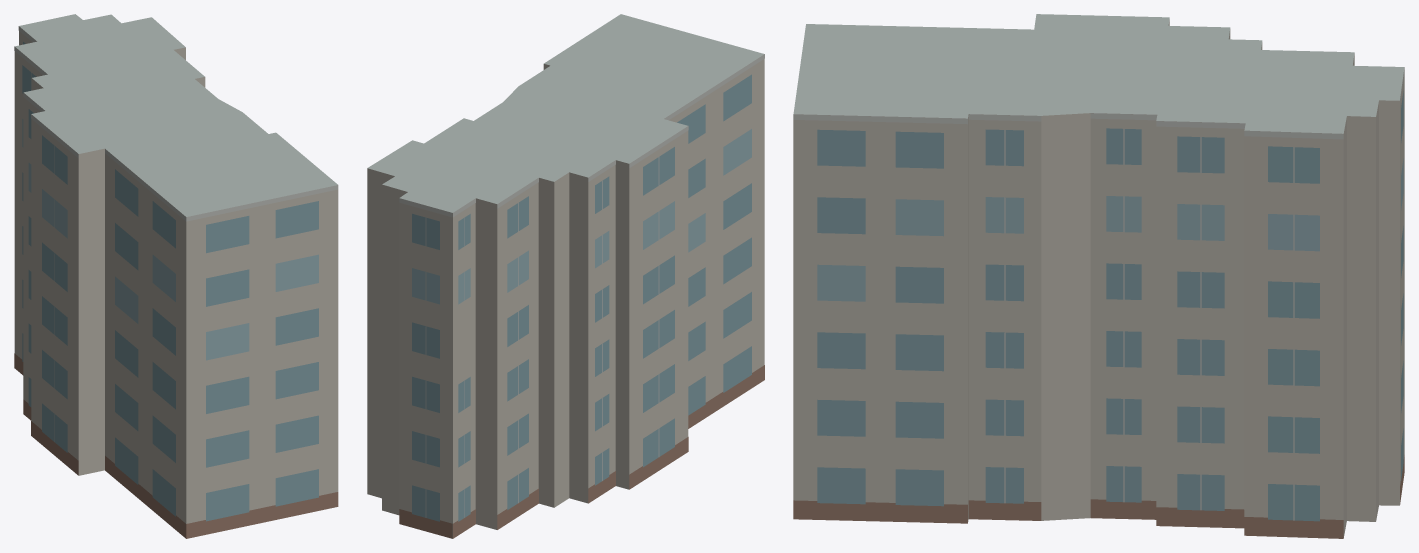
Rendered from survey-upis-32660595.glb.
The picture shows the model from 3 angles, left to right: view 1: azimuth 30°, elevation 25°; view 2: azimuth 150°, elevation 25°; view 3: azimuth 270°, elevation 25°; orthographic projection. The views are drawn at different scales.
Visible parts, largest first — view 1: survey-upis-32660595.tmp; view 2: survey-upis-32660595.tmp; view 3: survey-upis-32660595.tmp.
Boxes of the visible parts, <box> form: survey-upis-32660595.tmp: <box>14,14,338,538</box>; survey-upis-32660595.tmp: <box>367,14,764,538</box>; survey-upis-32660595.tmp: <box>793,14,1404,538</box>.
Size of the model in its own units: 11.08 by 17.45 by 23.87.
